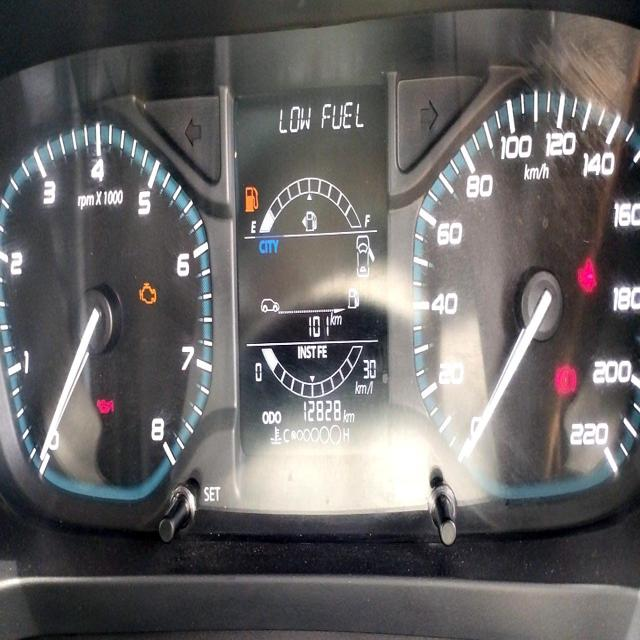odometer: (297, 394, 343, 429)
